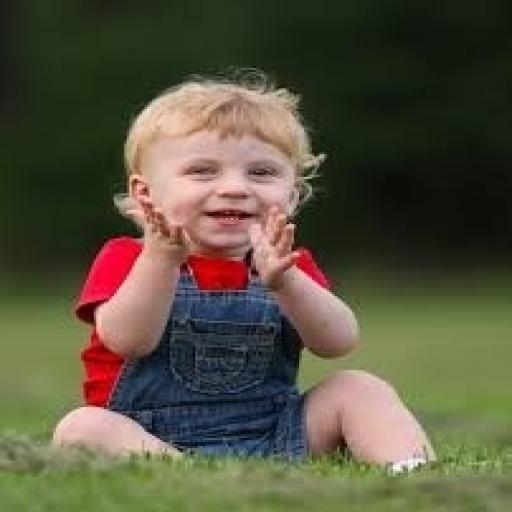clapping: (48, 70, 439, 475)
